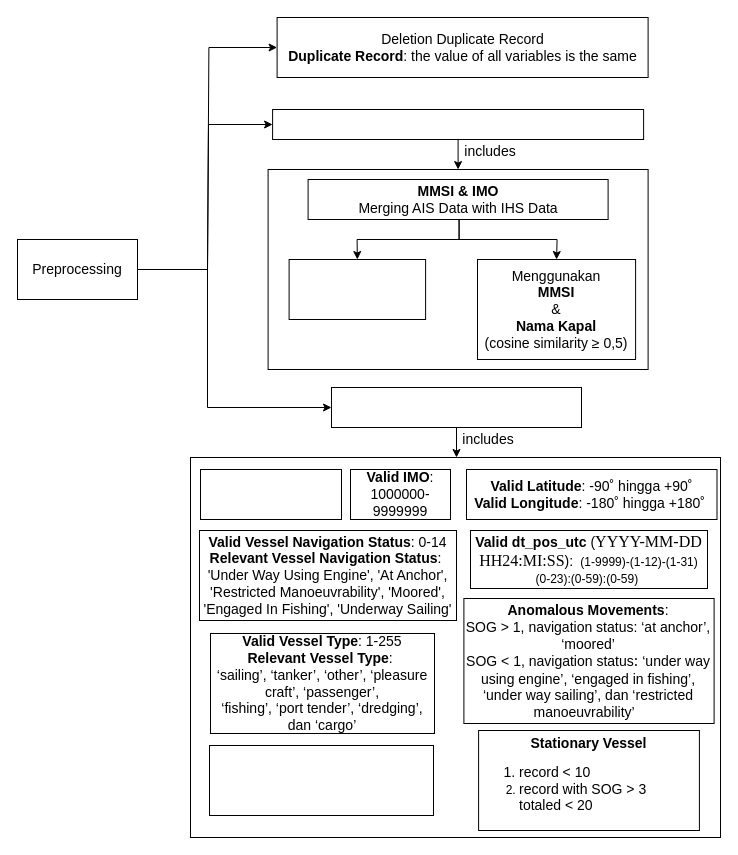
The diagram is 738 pixels wide and 855 high, and some of its shapes have lost their labels. The centre of each missing label's shape, as x and y in pixels:
Filter: eliminating invalid ones: (x=456, y=407)
Using IMO: (x=357, y=289)
Valid Flag Country : 201-775 Revelant Flag Country : 'Indonesia' and 'Asing': (x=321, y=780)
Valid MMSI : 100000000-999999999: (x=271, y=494)
Value-Handling: replace default, invalid, missing values: (x=458, y=124)
